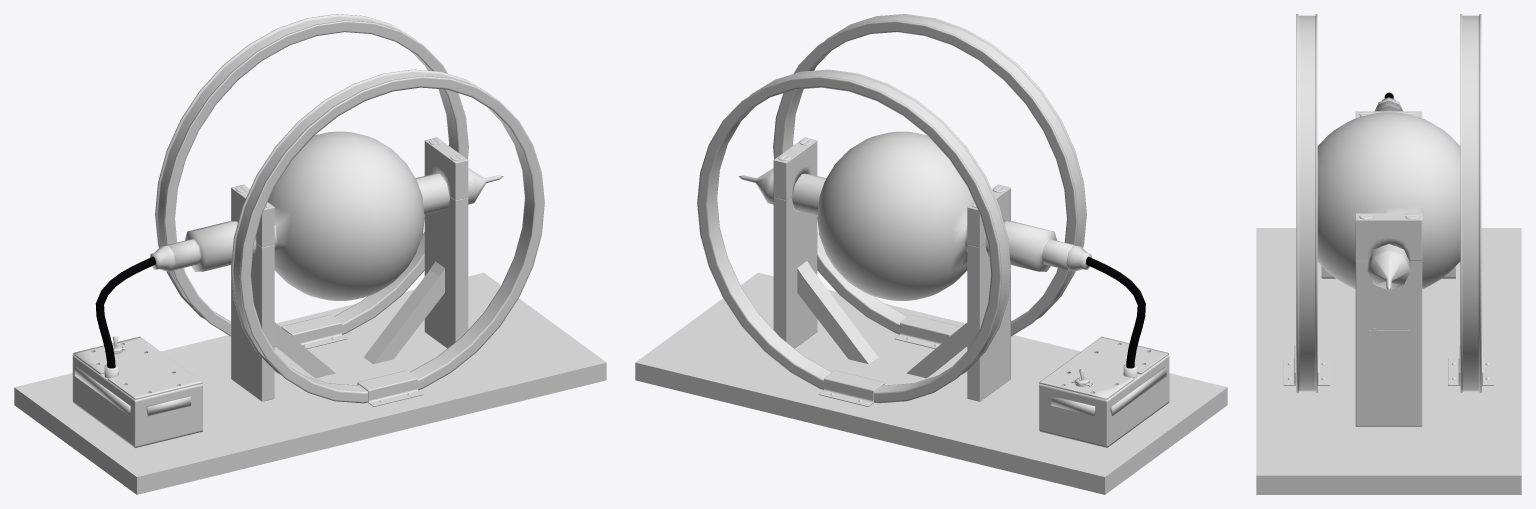
The model's file is CR_Without-Yellow-and-Arrow_L.fbx.
The picture shows the model from 3 angles, left to right: view 1: azimuth 30°, elevation 25°; view 2: azimuth 150°, elevation 25°; view 3: azimuth 270°, elevation 25°; orthographic projection. The views are drawn at different scales.
Parts seen in each view (by area): view 1: estático, aros, vidro.001, suporte_madeira1, caixa, dinâmico; view 2: estático, aros, vidro.001, suporte_madeira1, caixa, dinâmico; view 3: estático, vidro.001, aros, suporte_madeira1, placa_extra, dinâmico.
Part boxes in pixels (x1,y1,x2,y2): estático: [14, 272, 606, 494]; aros: [155, 14, 544, 406]; vidro.001: [237, 131, 503, 300]; suporte_madeira1: [231, 137, 468, 401]; caixa: [72, 256, 202, 447]; dinâmico: [150, 221, 237, 271]; estático: [635, 272, 1227, 494]; aros: [697, 14, 1086, 406]; vidro.001: [738, 131, 1004, 300]; suporte_madeira1: [773, 137, 1010, 401]; caixa: [1039, 256, 1169, 447]; dinâmico: [1004, 221, 1091, 271]; estático: [1256, 228, 1521, 494]; vidro.001: [1317, 112, 1460, 290]; aros: [1283, 14, 1494, 392]; suporte_madeira1: [1355, 111, 1422, 426]; placa_extra: [1368, 328, 1409, 340]; dinâmico: [1374, 97, 1403, 111].
Size of the model in its own units: 552 by 375 by 250.
